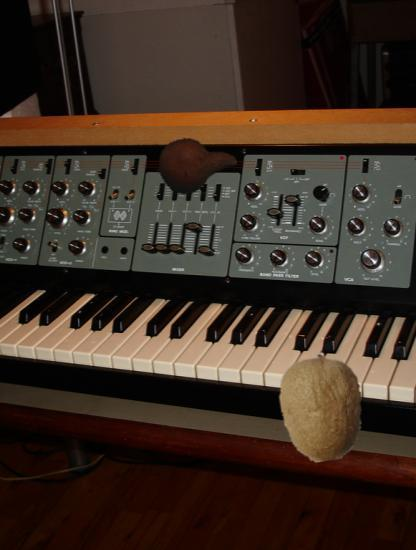Kiwi: (269, 354, 376, 461)
Pear: (156, 123, 239, 206)
